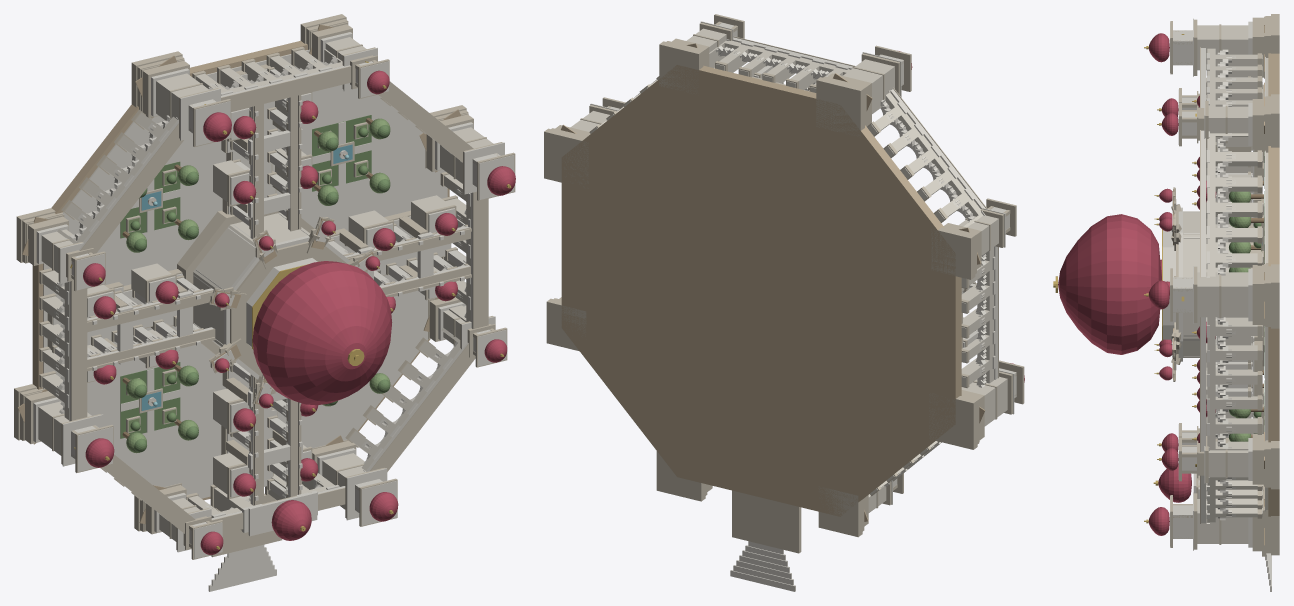
The model's file is arabian_palace_v14.glb.
The picture shows the model from 3 angles, left to right: view 1: azimuth 30°, elevation 25°; view 2: azimuth 150°, elevation 25°; view 3: azimuth 270°, elevation 25°; orthographic projection. The views are drawn at different scales.
Visible parts, largest first — view 1: Thin ivory foundation trim, Great central crimson dome, Central keep main body, Main sandstone foundation, Central keep roof terrace, Outer wall stone roof trim_7, Outer wall stone roof trim_3, Outer wall stone roof trim_4, Outer wall stone roof trim, Outer wall stone roof trim_2, Outer wall stone roof trim_1, Outer wall stone roof trim_5 (+40 smaller); view 2: Main sandstone foundation, Gate entrance landing, V14 tower 3 deep foundation, V14 tower 4 deep foundation, V14 tower 5 deep foundation, V14 tower 6 deep foundation, V14 tower 1 deep foundation, V14 tower 2 deep foundation, V14 tower 8 deep foundation, Main tower 3 shaft, V14 tower 7 deep foundation, Main tower 5 shaft (+2 smaller); view 3: Great central crimson dome, Main sandstone foundation, Main tower 1 shaft, Central keep main body, Main tower 3 shaft, Main tower 7 shaft, Secondary tower 2 shaft, Secondary tower 8 shaft, Great dome ivory drum, Gate crimson dome, Main ivory foundation, Outer wall upper band_1 (+43 smaller).
Boxes of the visible parts, left/top/right/bottom form: Thin ivory foundation trim: left=43, top=49, right=447, bottom=498; Great central crimson dome: left=252, top=261, right=392, bottom=405; Central keep main body: left=193, top=212, right=309, bottom=347; Main sandstone foundation: left=32, top=41, right=449, bottom=500; Central keep roof terrace: left=230, top=241, right=347, bottom=376; Outer wall stone roof trim_7: left=370, top=343, right=475, bottom=471; Outer wall stone roof trim_3: left=80, top=123, right=183, bottom=253; Outer wall stone roof trim_4: left=71, top=280, right=87, bottom=420; Outer wall stone roof trim: left=472, top=191, right=488, bottom=328; Outer wall stone roof trim_2: left=221, top=66, right=351, bottom=111; Outer wall stone roof trim_1: left=378, top=81, right=473, bottom=162; Outer wall stone roof trim_5: left=102, top=454, right=195, bottom=533; Main sandstone foundation: left=561, top=65, right=961, bottom=516; Gate entrance landing: left=732, top=490, right=801, bottom=553; V14 tower 3 deep foundation: left=816, top=77, right=864, bottom=136; V14 tower 4 deep foundation: left=931, top=227, right=975, bottom=279; V14 tower 5 deep foundation: left=929, top=393, right=977, bottom=449; V14 tower 6 deep foundation: left=818, top=486, right=862, bottom=537; V14 tower 1 deep foundation: left=544, top=128, right=588, bottom=188; V14 tower 2 deep foundation: left=659, top=41, right=703, bottom=93; V14 tower 8 deep foundation: left=546, top=298, right=586, bottom=351; Main tower 3 shaft: left=843, top=59, right=894, bottom=113; V14 tower 7 deep foundation: left=656, top=451, right=705, bottom=501; Main tower 5 shaft: left=961, top=376, right=1007, bottom=426; Great central crimson dome: left=1058, top=214, right=1161, bottom=354; Main sandstone foundation: left=1268, top=53, right=1279, bottom=516; Main tower 1 shaft: left=1197, top=272, right=1248, bottom=317; Central keep main body: left=1183, top=211, right=1234, bottom=357; Main tower 3 shaft: left=1197, top=25, right=1248, bottom=70; Main tower 7 shaft: left=1197, top=499, right=1248, bottom=543; Secondary tower 2 shaft: left=1208, top=106, right=1248, bottom=142; Secondary tower 8 shaft: left=1208, top=441, right=1248, bottom=477; Great dome ivory drum: left=1163, top=230, right=1175, bottom=339; Gate crimson dome: left=1158, top=463, right=1191, bottom=502; Main ivory foundation: left=1266, top=58, right=1268, bottom=509; Outer wall upper band_1: left=1201, top=130, right=1205, bottom=276.
Bounding box in the file's own units: 176 × 202 × 80.15.
